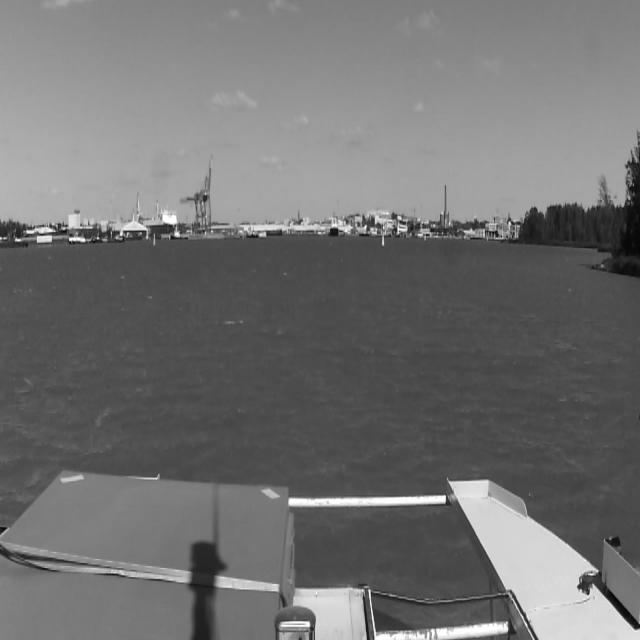buoy: (152, 231, 156, 245), (382, 231, 384, 246)
ship: (330, 214, 338, 236)
